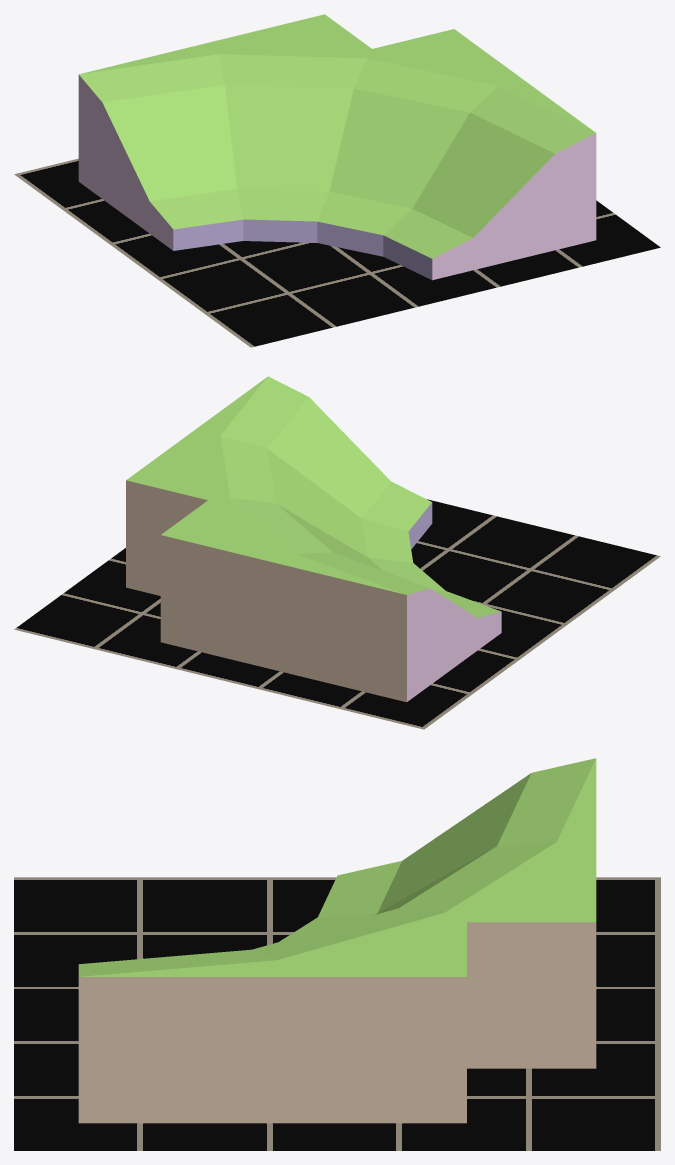
The model's file is Grass_Hill_Sharp_Curve_Inner_4x4.glb.
3 renders of one model, top to bottom at view 1: azimuth 30°, elevation 25°; view 2: azimuth 150°, elevation 25°; view 3: azimuth 270°, elevation 25°, orthographic. The views are drawn at different scales.
Parts seen in each view (by area): view 1: Grass_Hill_Sharp_Curve_Inner_4x4, Floor; view 2: Grass_Hill_Sharp_Curve_Inner_4x4, Floor; view 3: Grass_Hill_Sharp_Curve_Inner_4x4, Floor.
Boxes of the visible parts, x1,y1,x2,y2 form: Grass_Hill_Sharp_Curve_Inner_4x4: [78, 14, 596, 280]; Floor: [14, 158, 660, 347]; Grass_Hill_Sharp_Curve_Inner_4x4: [126, 376, 501, 702]; Floor: [14, 499, 660, 729]; Grass_Hill_Sharp_Curve_Inner_4x4: [78, 758, 596, 1123]; Floor: [14, 877, 660, 1150].
Size of the model in its own units: 500 by 125 by 500.
Materials: 6 (1 with a texture image).
